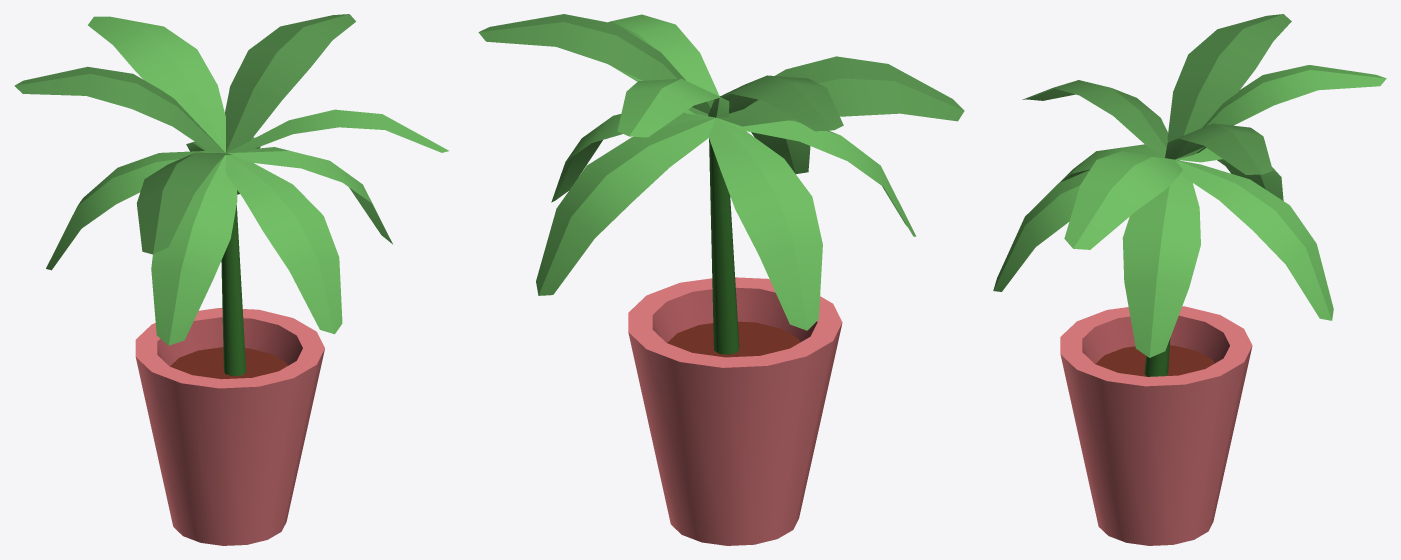
Rendered from flower2.fbx.
3 views of the same model, side by side, from view 1: azimuth 30°, elevation 25°; view 2: azimuth 150°, elevation 25°; view 3: azimuth 270°, elevation 25° (orthographic). The views are drawn at different scales.
Visible parts, largest first — view 1: flower2; view 2: flower2; view 3: flower2.
Boxes of the visible parts, x1,y1,x2,y2 form: flower2: (14, 14, 448, 545); flower2: (478, 14, 964, 545); flower2: (993, 14, 1386, 545).
Size of the model in its own units: 118 by 149 by 119.
